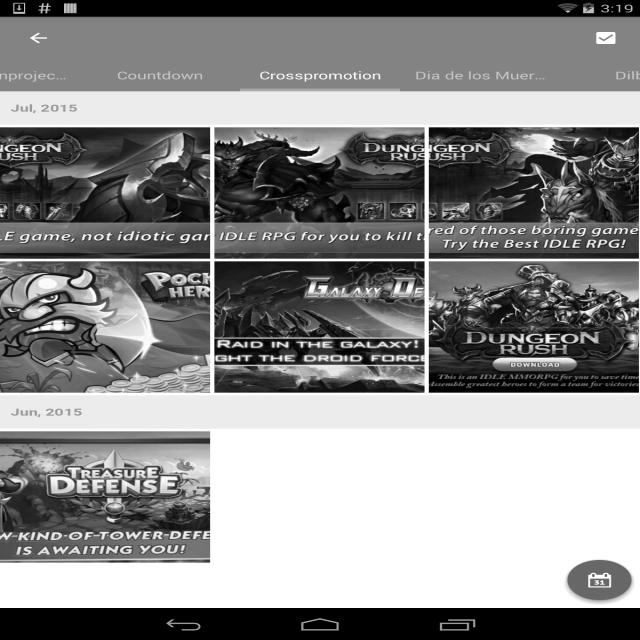CheckedTextView: (80, 59, 240, 92), (240, 59, 400, 92), (400, 59, 560, 92), (0, 59, 80, 92), (560, 59, 640, 92)
ImageButton: (9, 19, 68, 57)
ImageView: (0, 127, 210, 259), (214, 127, 424, 259), (429, 127, 639, 259), (0, 261, 210, 393), (214, 261, 424, 393), (429, 261, 639, 393), (0, 431, 210, 563)
TextView: (580, 22, 632, 54)
